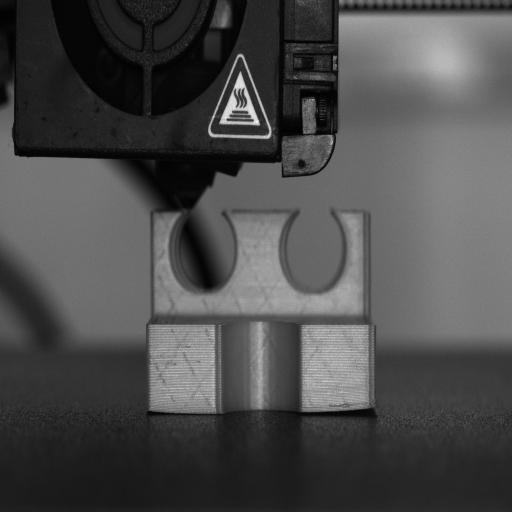warp: (320, 392, 382, 422), (143, 399, 172, 418)
